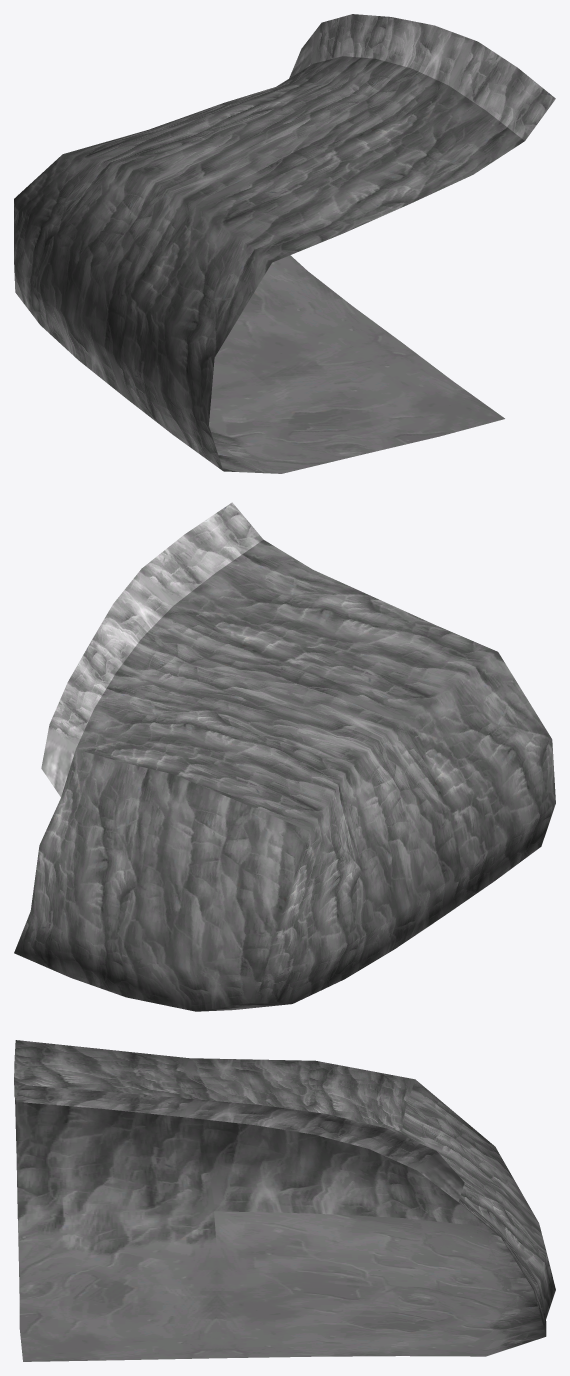
The model's file is SWORDLIGHT20_PS-AREA03_24.fbx.
3 views of the same model, one above another, from view 1: azimuth 30°, elevation 25°; view 2: azimuth 150°, elevation 25°; view 3: azimuth 270°, elevation 25° (orthographic). The views are drawn at different scales.
Visible parts, largest first — view 1: SWORDLIGHT20_PS-AREA03_24; view 2: SWORDLIGHT20_PS-AREA03_24; view 3: SWORDLIGHT20_PS-AREA03_24.
Part boxes in pixels (x1,y1,x2,y2): SWORDLIGHT20_PS-AREA03_24: [14, 14, 555, 473]; SWORDLIGHT20_PS-AREA03_24: [14, 502, 555, 1011]; SWORDLIGHT20_PS-AREA03_24: [14, 1040, 555, 1361].
Bounding box in the file's own units: 84933 × 70238 × 114999.
Materials: 5 (5 with a texture image).
